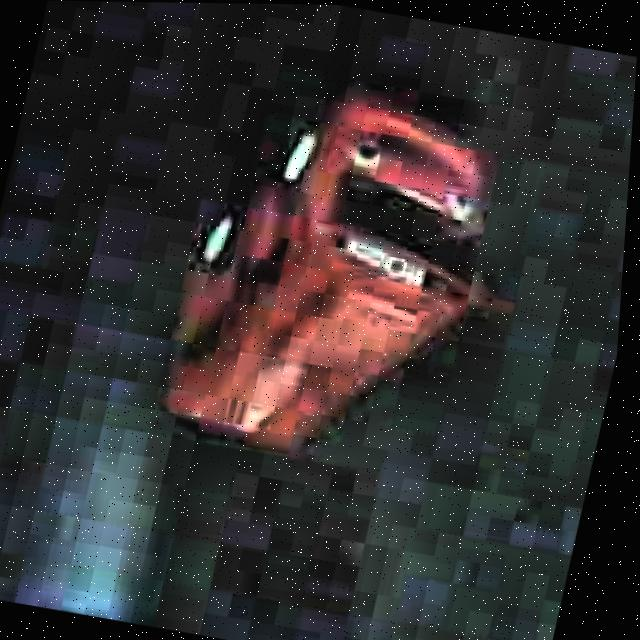bus: (125, 37, 548, 501)
